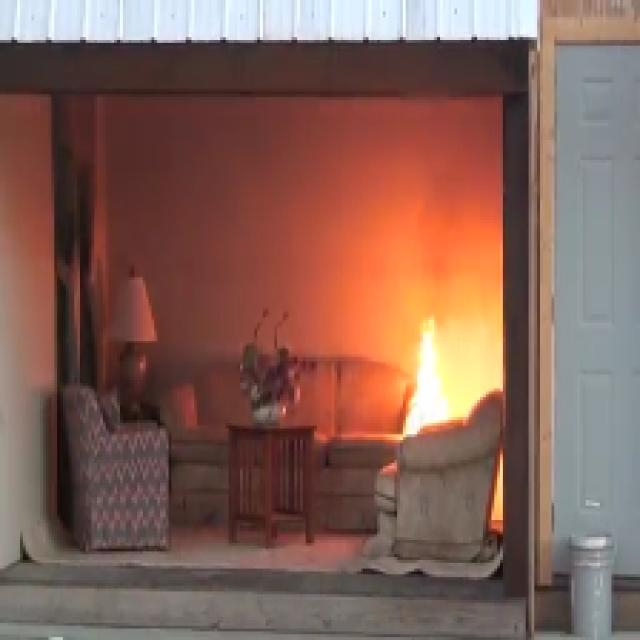fire: (398, 303, 452, 451)
